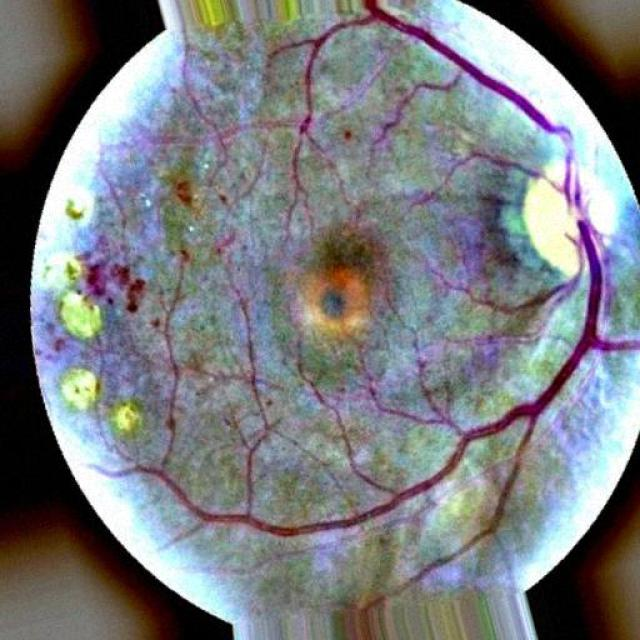Macula: (309, 226, 378, 304)
